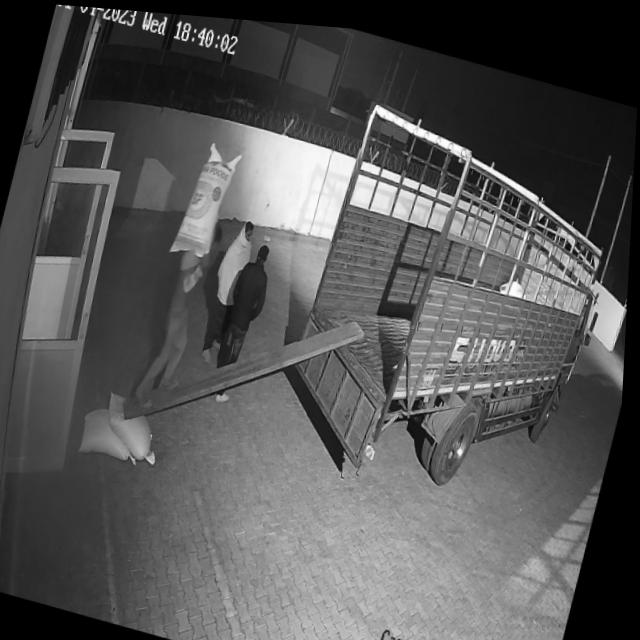sack: (171, 136, 244, 262), (100, 388, 168, 462), (81, 401, 149, 462)
